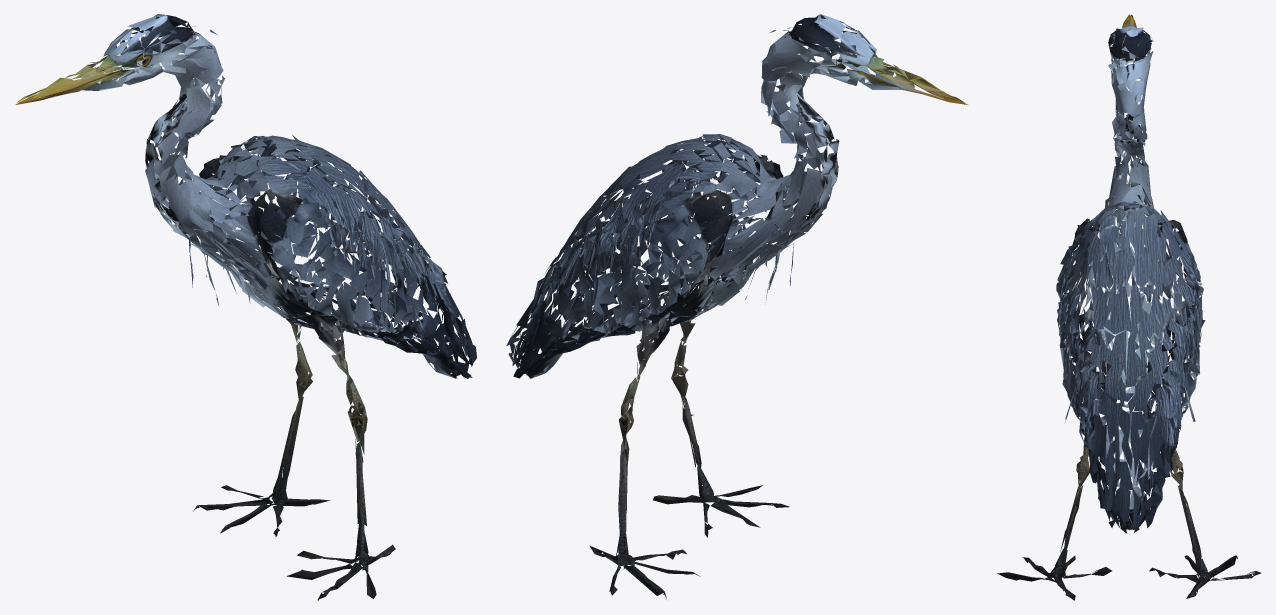
The model's file is heron_grey.glb.
The picture shows the model from 3 angles, left to right: view 1: azimuth 30°, elevation 25°; view 2: azimuth 150°, elevation 25°; view 3: azimuth 270°, elevation 25°; orthographic projection. The views are drawn at different scales.
Parts seen in each view (by area): view 1: dock; view 2: dock; view 3: dock.
Boxes of the visible parts, x1,y1,x2,y2 form: dock: (15,14,476,600); dock: (506,14,967,599); dock: (997,14,1261,600).
Size of the model in its own units: 0.9289 by 1.1 by 0.5378.
1 material, 1 textured.
